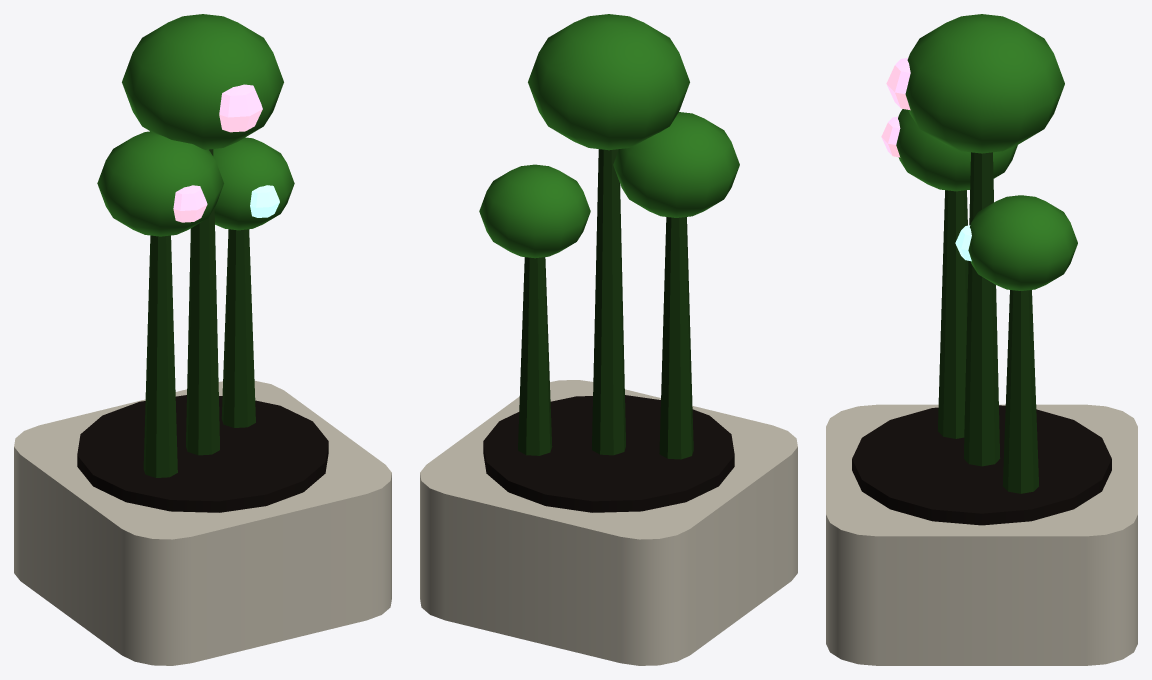
Rendered from planter_blob.glb.
The picture shows the model from 3 angles, left to right: view 1: azimuth 30°, elevation 25°; view 2: azimuth 150°, elevation 25°; view 3: azimuth 270°, elevation 25°; orthographic projection. The views are drawn at different scales.
Parts seen in each view (by area): view 1: planter_blob; view 2: planter_blob; view 3: planter_blob.
Boxes of the visible parts, x1=… form: planter_blob: x1=14, y1=14, x2=391, y2=665; planter_blob: x1=420, y1=14, x2=797, y2=665; planter_blob: x1=826, y1=14, x2=1137, y2=665.
Bounding box in the file's own units: 1.2 × 2.45 × 1.2.
